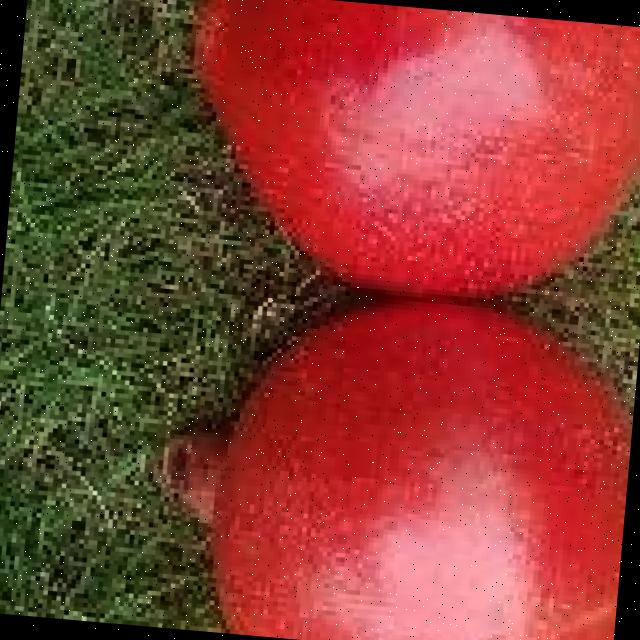Good_Pomegranate-50-60-days: (157, 0, 640, 640)
